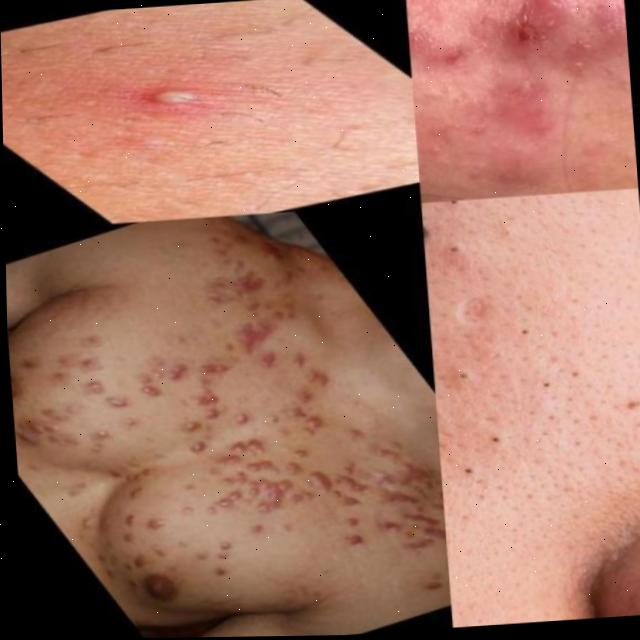Acne: (98, 258, 406, 588), (445, 183, 634, 510), (445, 0, 622, 116), (107, 33, 271, 143)
